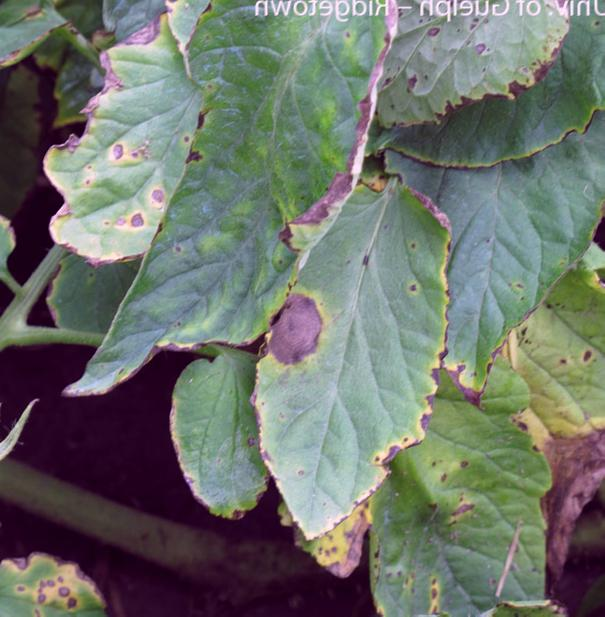Tomato Early blight leaf: (42, 0, 406, 386), (243, 178, 455, 523), (346, 387, 547, 617)
